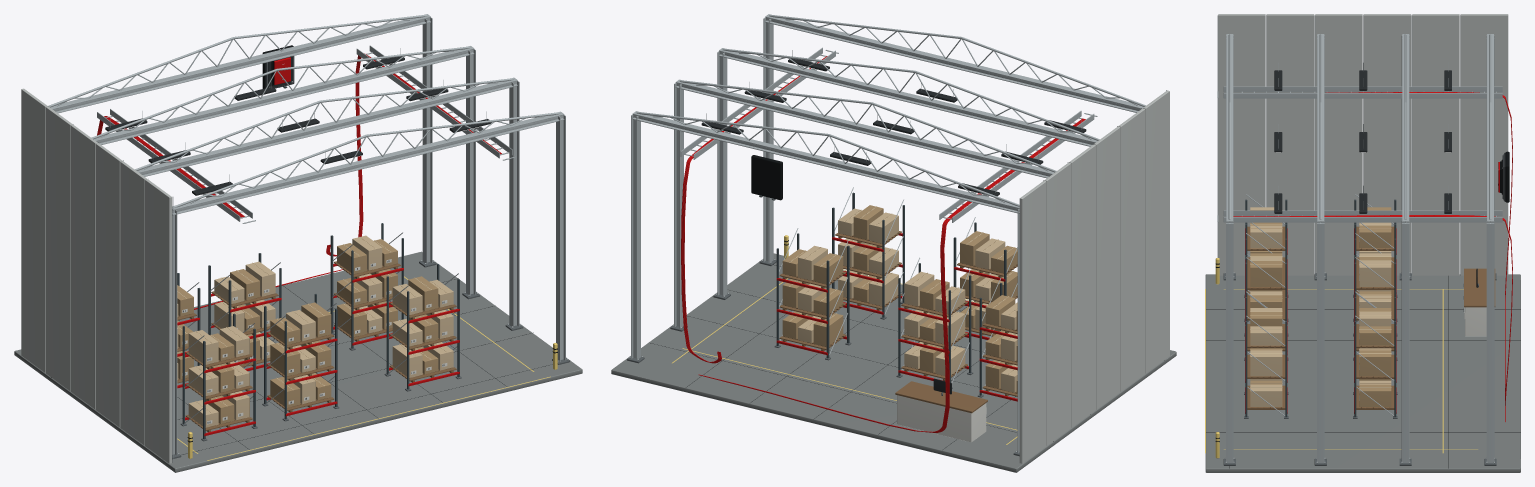
Rendered from motexo-craft.glb.
The picture shows the model from 3 angles, left to right: view 1: azimuth 30°, elevation 25°; view 2: azimuth 150°, elevation 25°; view 3: azimuth 270°, elevation 25°; orthographic projection. The views are drawn at different scales.
Parts seen in each view (by area): view 1: WarehouseCraft_MTX mineral wall, WarehouseCraft_MTX galvanized steel, WarehouseCraft_MTX polished concrete, WarehouseCraft_MTX pale carton, WarehouseCraft_MTX kraft carton, WarehouseCraft_MTX racking graphite, WarehouseCraft_MTX signal red enamel, WarehouseCraft_MTX pallet timber, WarehouseCraft_MTX graphite powdercoat, WarehouseCraft_MTX warm white polymer, WarehouseCraft_MTX packing tape, WarehouseCraft_MTX aisle paint (+1 smaller); view 2: WarehouseCraft_MTX mineral wall, WarehouseCraft_MTX galvanized steel, WarehouseCraft_MTX polished concrete, WarehouseCraft_MTX pale carton, WarehouseCraft_MTX kraft carton, WarehouseCraft_MTX signal red enamel, WarehouseCraft_MTX pallet timber, WarehouseCraft_MTX racking graphite, WarehouseCraft_MTX warm white polymer, WarehouseCraft_MTX graphite powdercoat, SwitchHousing_MTX black gasket, WarehouseCraft_MTX packing tape (+2 smaller); view 3: WarehouseCraft_MTX mineral wall, WarehouseCraft_MTX polished concrete, WarehouseCraft_MTX galvanized steel, WarehouseCraft_MTX pale carton, WarehouseCraft_MTX kraft carton, WarehouseCraft_MTX pallet timber, WarehouseCraft_MTX racking graphite, WarehouseCraft_MTX signal red enamel, WarehouseCraft_MTX graphite powdercoat, WarehouseCraft_MTX aisle paint, WarehouseCraft_MTX packing tape, WarehouseCraft_MTX black gasket (+2 smaller).
Boxes of the visible parts, x1,y1,x2,y2 form: WarehouseCraft_MTX mineral wall: (21, 88, 171, 463); WarehouseCraft_MTX galvanized steel: (48, 14, 567, 462); WarehouseCraft_MTX polished concrete: (14, 251, 582, 472); WarehouseCraft_MTX pale carton: (177, 235, 453, 427); WarehouseCraft_MTX kraft carton: (177, 239, 438, 423); WarehouseCraft_MTX racking graphite: (177, 223, 459, 439); WarehouseCraft_MTX signal red enamel: (97, 53, 501, 436); WarehouseCraft_MTX pallet timber: (177, 239, 456, 432); WarehouseCraft_MTX graphite powdercoat: (105, 56, 491, 423); WarehouseCraft_MTX warm white polymer: (182, 259, 447, 424); WarehouseCraft_MTX packing tape: (177, 237, 447, 413); WarehouseCraft_MTX aisle paint: (177, 276, 557, 460); WarehouseCraft_MTX mineral wall: (1019, 90, 1169, 463); WarehouseCraft_MTX galvanized steel: (629, 14, 1166, 453); WarehouseCraft_MTX polished concrete: (611, 253, 1176, 472); WarehouseCraft_MTX pale carton: (798, 208, 1017, 392); WarehouseCraft_MTX kraft carton: (782, 205, 1017, 393); WarehouseCraft_MTX signal red enamel: (681, 56, 1085, 432); WarehouseCraft_MTX pallet timber: (779, 207, 1017, 413); WarehouseCraft_MTX racking graphite: (776, 192, 1006, 395); WarehouseCraft_MTX warm white polymer: (897, 395, 986, 442); WarehouseCraft_MTX graphite powdercoat: (701, 58, 1086, 394); SwitchHousing_MTX black gasket: (751, 155, 782, 200); WarehouseCraft_MTX packing tape: (789, 206, 1017, 374); WarehouseCraft_MTX mineral wall: (1218, 14, 1508, 275); WarehouseCraft_MTX polished concrete: (1205, 274, 1520, 472); WarehouseCraft_MTX galvanized steel: (1217, 15, 1502, 463); WarehouseCraft_MTX pale carton: (1250, 207, 1391, 406); WarehouseCraft_MTX kraft carton: (1250, 207, 1391, 406); WarehouseCraft_MTX pallet timber: (1247, 210, 1495, 409); WarehouseCraft_MTX racking graphite: (1245, 199, 1396, 417); WarehouseCraft_MTX signal red enamel: (1233, 92, 1512, 421); WarehouseCraft_MTX graphite powdercoat: (1274, 70, 1477, 287); WarehouseCraft_MTX aisle paint: (1205, 258, 1477, 458); WarehouseCraft_MTX packing tape: (1250, 210, 1391, 387); WarehouseCraft_MTX black gasket: (1206, 263, 1520, 468).
Bounding box in the file's own units: 38 × 24.91 × 26.04.
